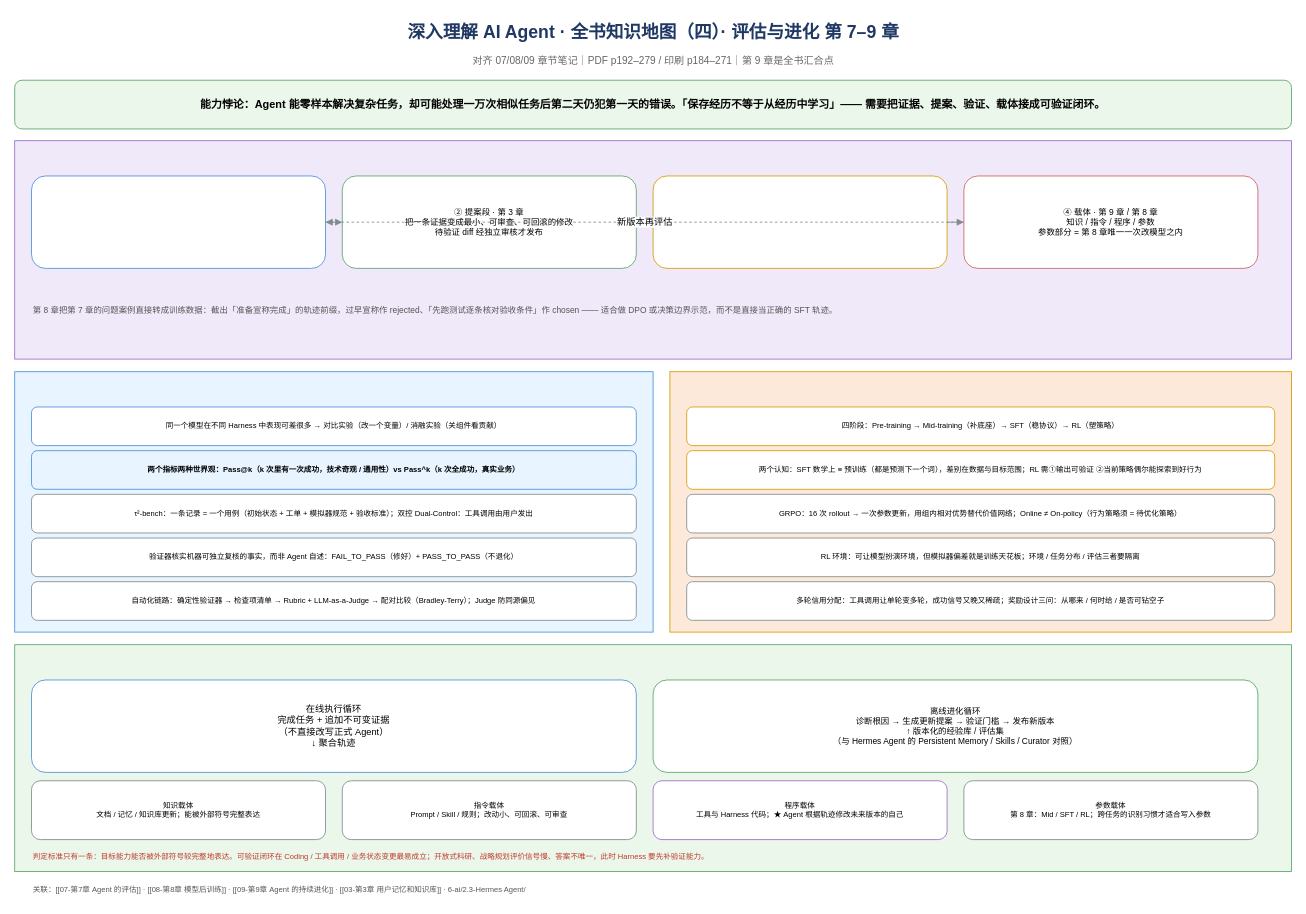
Image size: 1306x914. Some labels were removed from this diagram. Each missing label, with the box of its shape:
A · 发现循环（把散落各章的伏笔接起来）: (14, 140, 1292, 359)
B · 第 7 章 评估：对象是「模型 + Harness」: (14, 371, 653, 632)
C · 第 8 章 后训练：四阶段 + 三条选择规则: (669, 371, 1292, 632)
D · 第 9 章 双循环：全书汇合点: (14, 644, 1292, 872)
① 证据段 · 第 7 章 Pass^k / 失败归因 trajectory prefix 边界集 从整条轨迹定位首个错误: (31, 175, 326, 268)
③ 验证与发布 · 第 9 章 离线进化循环 + 验证门槛 版本化经验库 / 评估集 在线循环只追加不可变证据: (652, 175, 947, 268)
